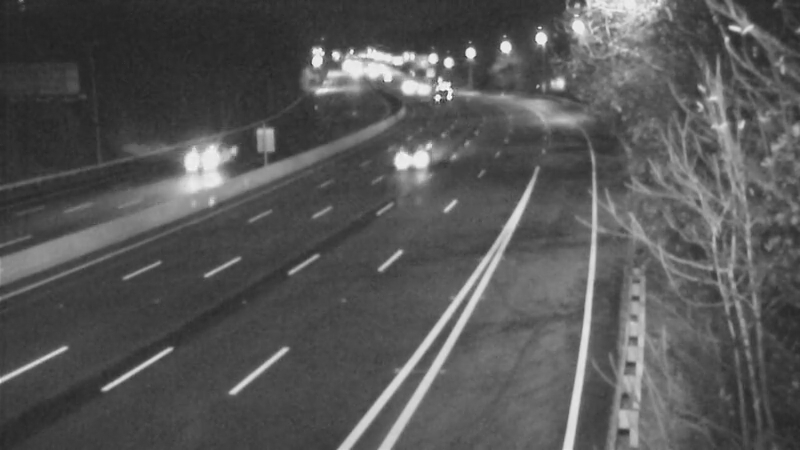vehicle: (379, 120, 459, 200), (175, 118, 255, 198), (399, 63, 449, 113), (415, 61, 465, 111)
